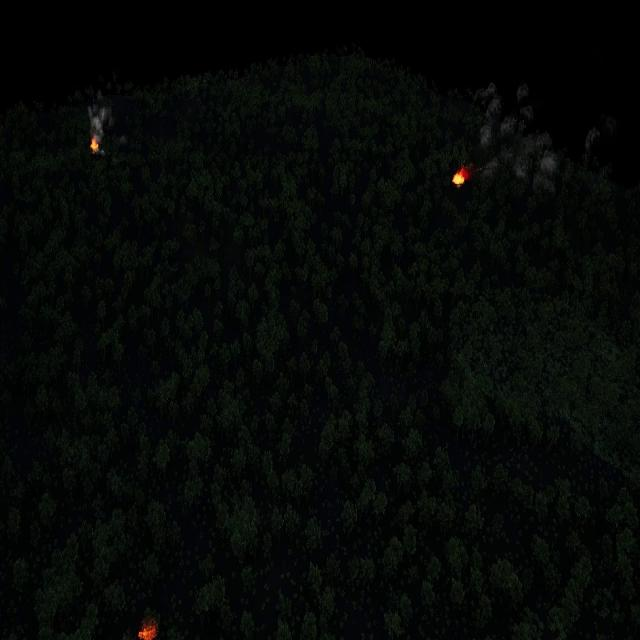fire: (136, 620, 158, 640), (453, 168, 467, 186), (92, 138, 100, 152)
smoke: (464, 83, 560, 194), (581, 113, 614, 156), (88, 97, 112, 139)
